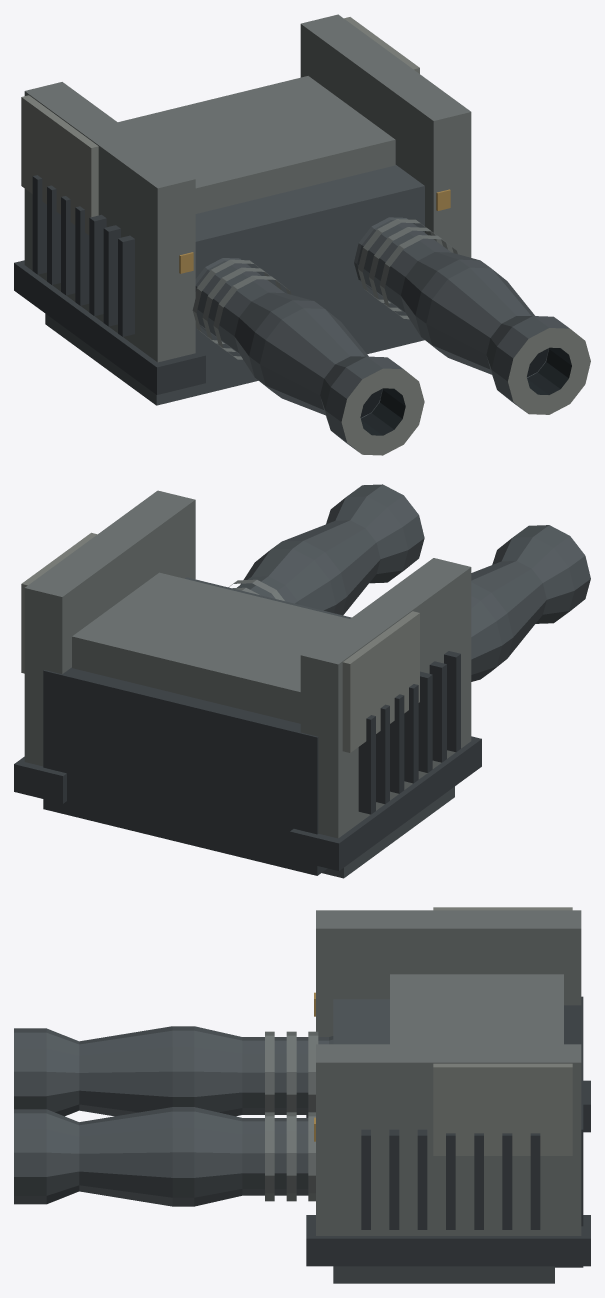
The model's file is SiegeTurretHead.obj.
3 views of the same model, one above another, from view 1: azimuth 30°, elevation 25°; view 2: azimuth 150°, elevation 25°; view 3: azimuth 270°, elevation 25° (orthographic).
Visible parts, largest first — view 1: SiegeTurretHead; view 2: SiegeTurretHead; view 3: SiegeTurretHead.
Part boxes in pixels (x1,y1,x2,y2): SiegeTurretHead: [14, 14, 590, 455]; SiegeTurretHead: [14, 484, 590, 878]; SiegeTurretHead: [14, 907, 590, 1283].
Bounding box in the file's own units: 1.79 × 1.14 × 2.66.
Materials: 1 (1 with a texture image).
